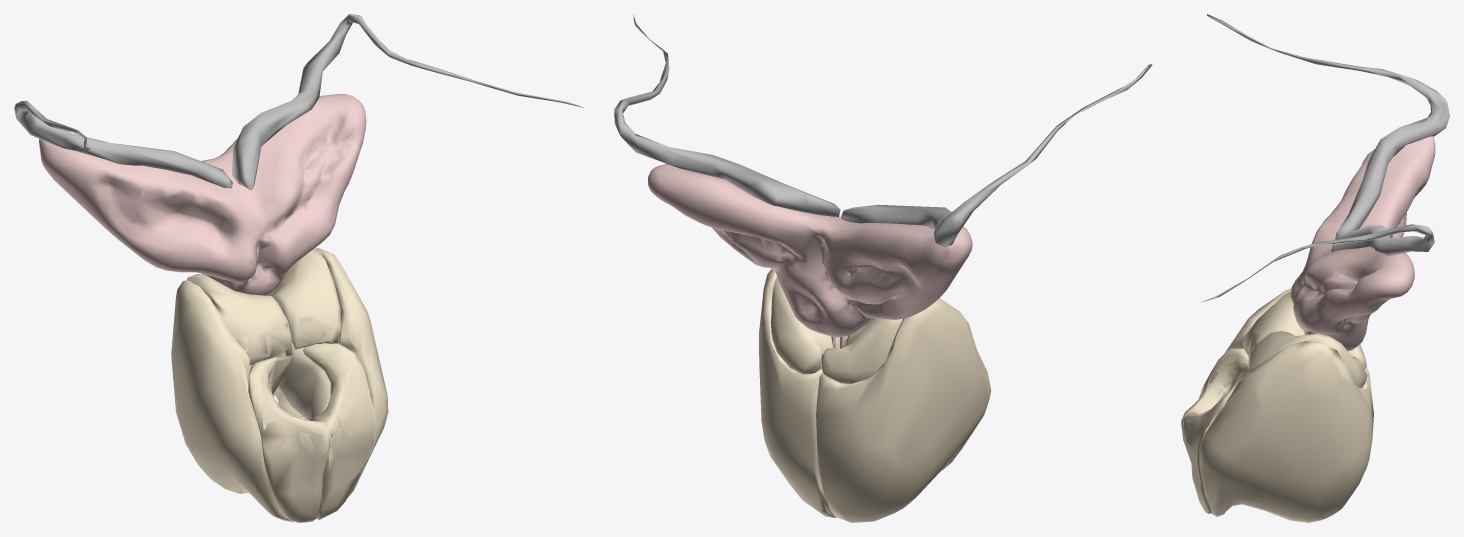
Rendered from vh_m_prostate.glb.
3 renders of one model, left to right at view 1: azimuth 30°, elevation 25°; view 2: azimuth 150°, elevation 25°; view 3: azimuth 270°, elevation 25°, orthographic. The views are drawn at different scales.
Visible parts, largest first — view 1: VH_M_seminal_vesicle, VH_M_peripheral_zone_of_prostate_R, VH_M_anterior_fibromuscular_stroma_R, VH_M_anterior_fibromuscular_stroma_L, VH_M_vas_deferens_R, VH_M_base_of_prostate, VH_M_vas_deferens_L, VH_M_central_zone_of_prostate_L, VH_M_peripheral_zone_of_prostate_L, VH_M_central_zone_of_prostate_R, VH_M_transition_zone__of_prostate_L; view 2: VH_M_peripheral_zone_of_prostate_R, VH_M_seminal_vesicle, VH_M_peripheral_zone_of_prostate_L, VH_M_vas_deferens_R, VH_M_vas_deferens_L, VH_M_central_zone_of_prostate_R, VH_M_central_zone_of_prostate_L; view 3: VH_M_peripheral_zone_of_prostate_L, VH_M_seminal_vesicle, VH_M_vas_deferens_L, VH_M_vas_deferens_R, VH_M_central_zone_of_prostate_L, VH_M_central_zone_of_prostate_R, VH_M_anterior_fibromuscular_stroma_L, VH_M_base_of_prostate, VH_M_anterior_fibromuscular_stroma_R, VH_M_peripheral_zone_of_prostate_R.
Boxes of the visible parts, x1,y1,x2,y2 form: VH_M_seminal_vesicle: [39, 94, 366, 295]; VH_M_peripheral_zone_of_prostate_R: [171, 280, 294, 521]; VH_M_anterior_fibromuscular_stroma_R: [248, 357, 329, 522]; VH_M_anterior_fibromuscular_stroma_L: [303, 343, 375, 519]; VH_M_vas_deferens_R: [232, 14, 583, 190]; VH_M_base_of_prostate: [235, 317, 369, 454]; VH_M_vas_deferens_L: [14, 100, 232, 188]; VH_M_central_zone_of_prostate_L: [267, 248, 341, 349]; VH_M_peripheral_zone_of_prostate_L: [273, 248, 388, 498]; VH_M_central_zone_of_prostate_R: [187, 274, 292, 365]; VH_M_transition_zone__of_prostate_L: [277, 344, 330, 420]; VH_M_peripheral_zone_of_prostate_R: [816, 298, 991, 522]; VH_M_seminal_vesicle: [647, 164, 972, 337]; VH_M_peripheral_zone_of_prostate_L: [759, 269, 836, 517]; VH_M_vas_deferens_R: [614, 14, 840, 216]; VH_M_vas_deferens_L: [841, 64, 1152, 247]; VH_M_central_zone_of_prostate_R: [820, 317, 902, 383]; VH_M_central_zone_of_prostate_L: [770, 277, 847, 374]; VH_M_peripheral_zone_of_prostate_L: [1199, 341, 1373, 522]; VH_M_seminal_vesicle: [1290, 136, 1435, 350]; VH_M_vas_deferens_L: [1207, 14, 1449, 239]; VH_M_vas_deferens_R: [1200, 224, 1434, 302]; VH_M_central_zone_of_prostate_L: [1243, 331, 1367, 387]; VH_M_central_zone_of_prostate_R: [1243, 291, 1366, 369]; VH_M_anterior_fibromuscular_stroma_L: [1182, 379, 1242, 513]; VH_M_base_of_prostate: [1183, 324, 1257, 446]; VH_M_anterior_fibromuscular_stroma_R: [1181, 348, 1248, 441]; VH_M_peripheral_zone_of_prostate_R: [1201, 288, 1372, 404].
Bounding box in the file's own units: 0.0828 × 0.0703 × 0.0428.
